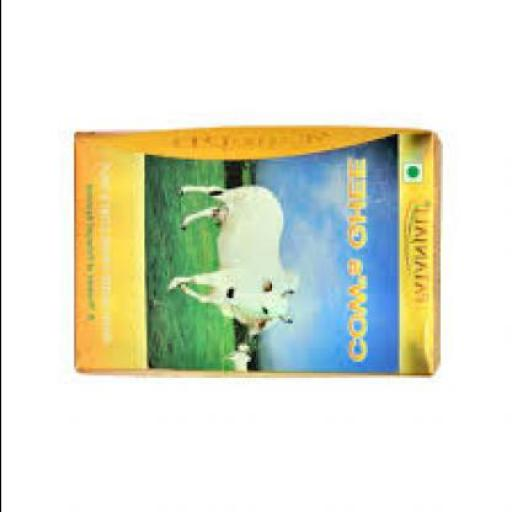cardboard: (72, 130, 442, 380)
